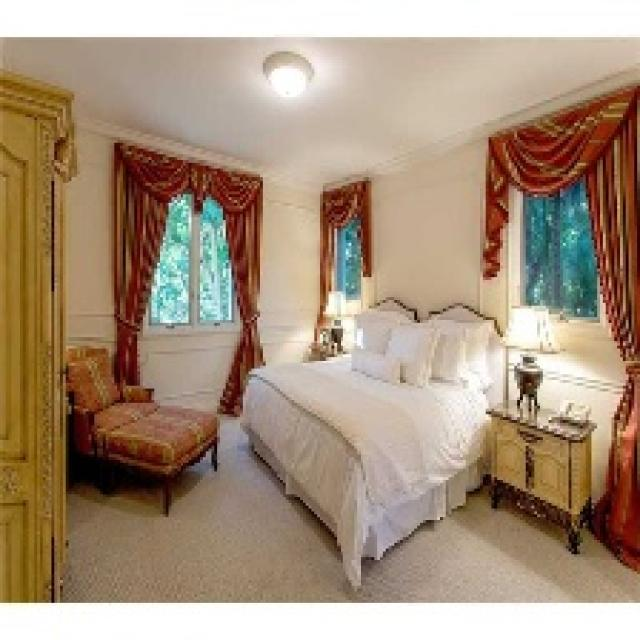Bed: (237, 294, 506, 589)
